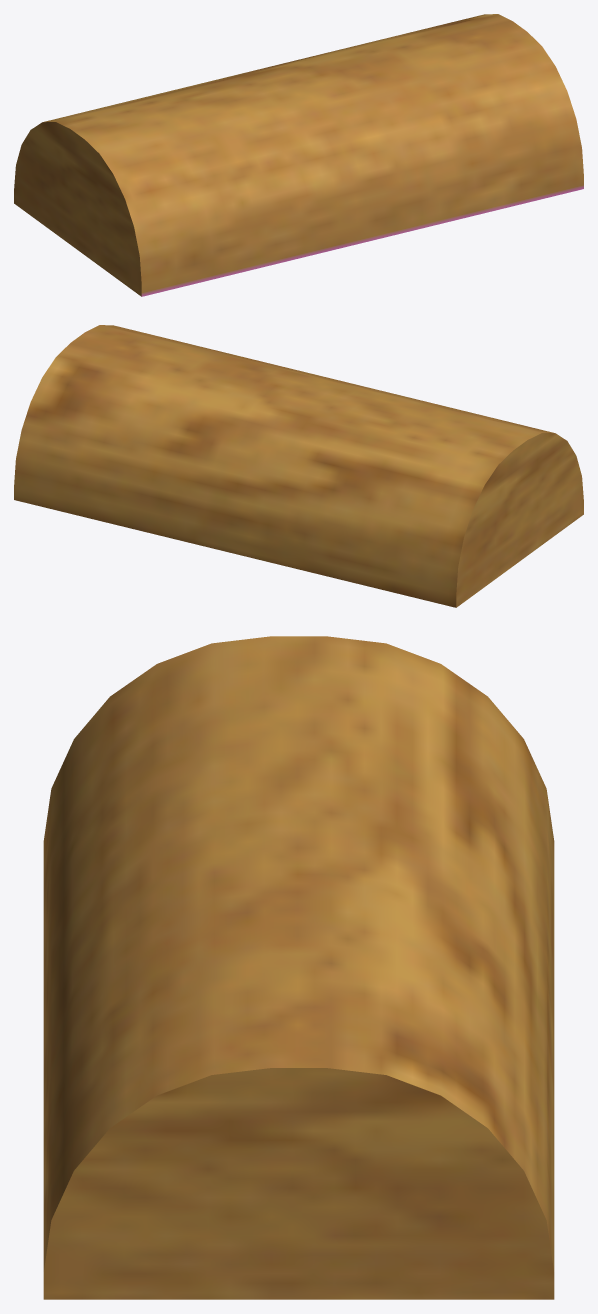
Rendered from BrownSemiCylinder.fbx.
3 views of the same model, one above another, from view 1: azimuth 30°, elevation 25°; view 2: azimuth 150°, elevation 25°; view 3: azimuth 270°, elevation 25° (orthographic). The views are drawn at different scales.
Visible parts, largest first — view 1: Cube.018; view 2: Cube.018; view 3: Cube.018.
Boxes of the visible parts, x1,y1,x2,y2 form: Cube.018: (14, 14, 583, 296); Cube.018: (14, 325, 583, 607); Cube.018: (43, 636, 554, 1299).
Size of the model in its own units: 800 by 200 by 400.
